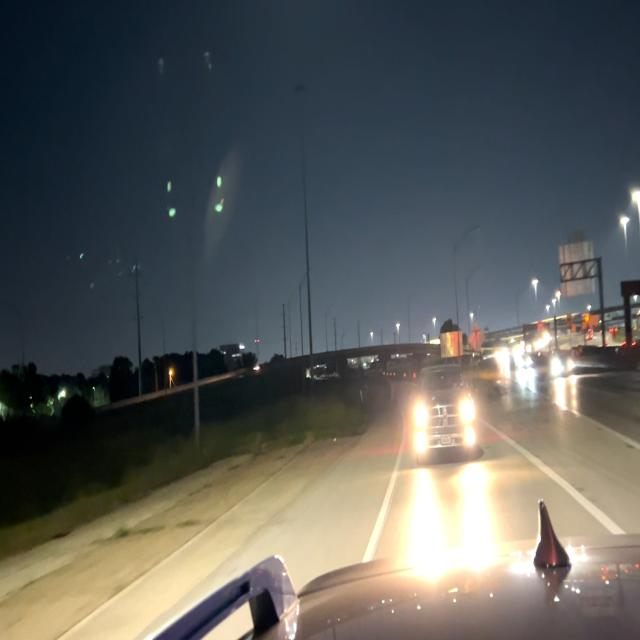back-of-sign: (559, 240, 597, 297)
